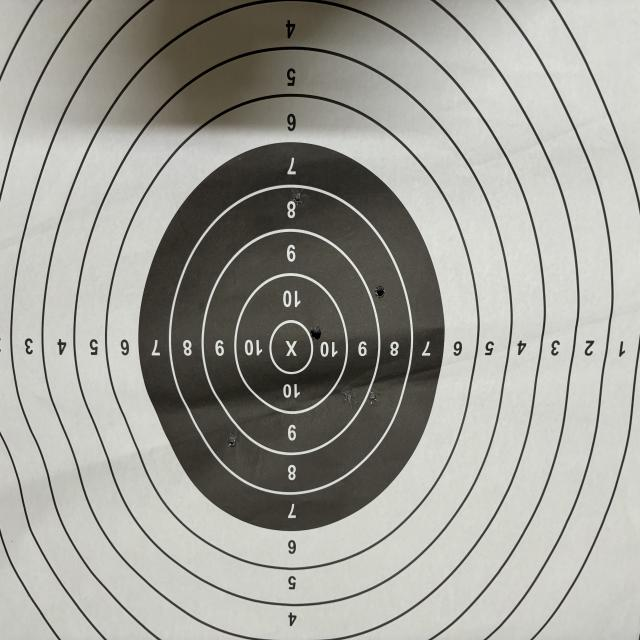bullet: (343, 390, 352, 410), (292, 189, 304, 204), (368, 390, 378, 404), (228, 436, 236, 448), (376, 288, 384, 296), (312, 328, 320, 336)
target: (0, 0, 640, 640), (5, 134, 161, 282)
